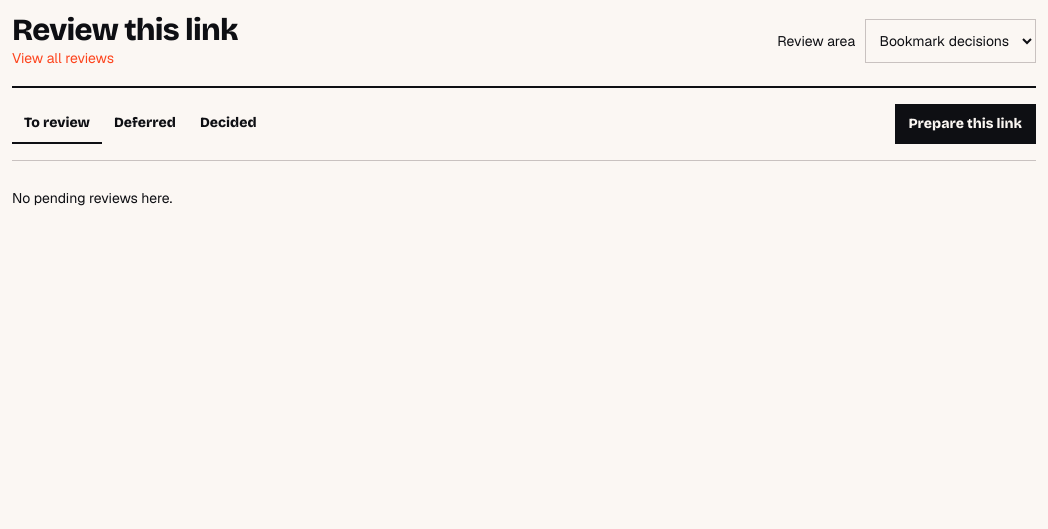
ReviewPage › prepares just the selected link on the single link route
Click the button "Prepare this link".
click(965, 124)  # box [894,104,1036,144]
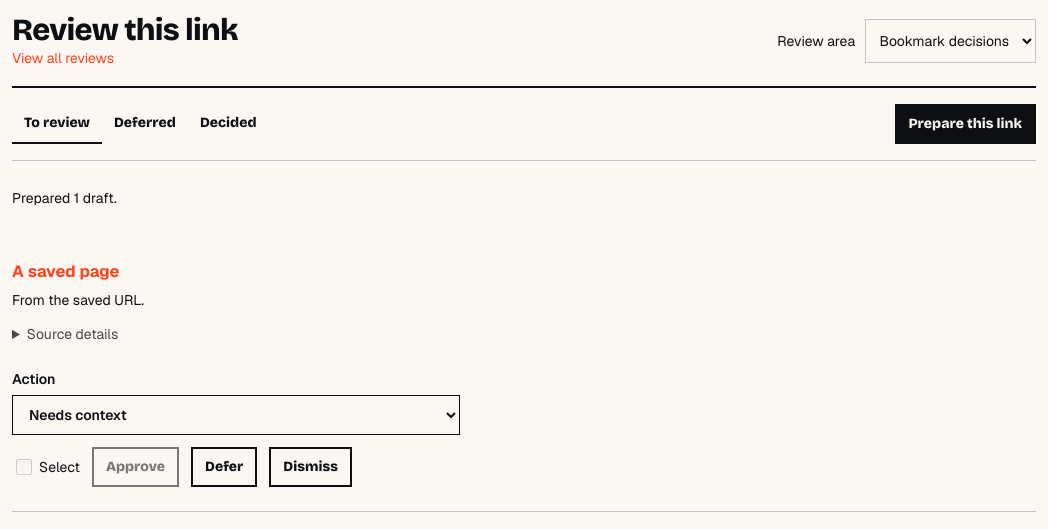
Result: the element "A saved page" is shown at [12,235,1036,512]
